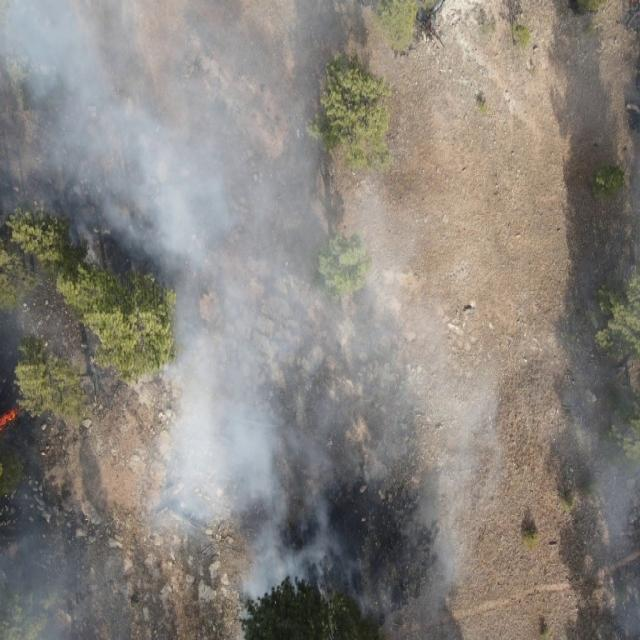fire: (0, 402, 27, 432)
smoke: (0, 0, 410, 640), (409, 311, 496, 640), (581, 371, 640, 640)
